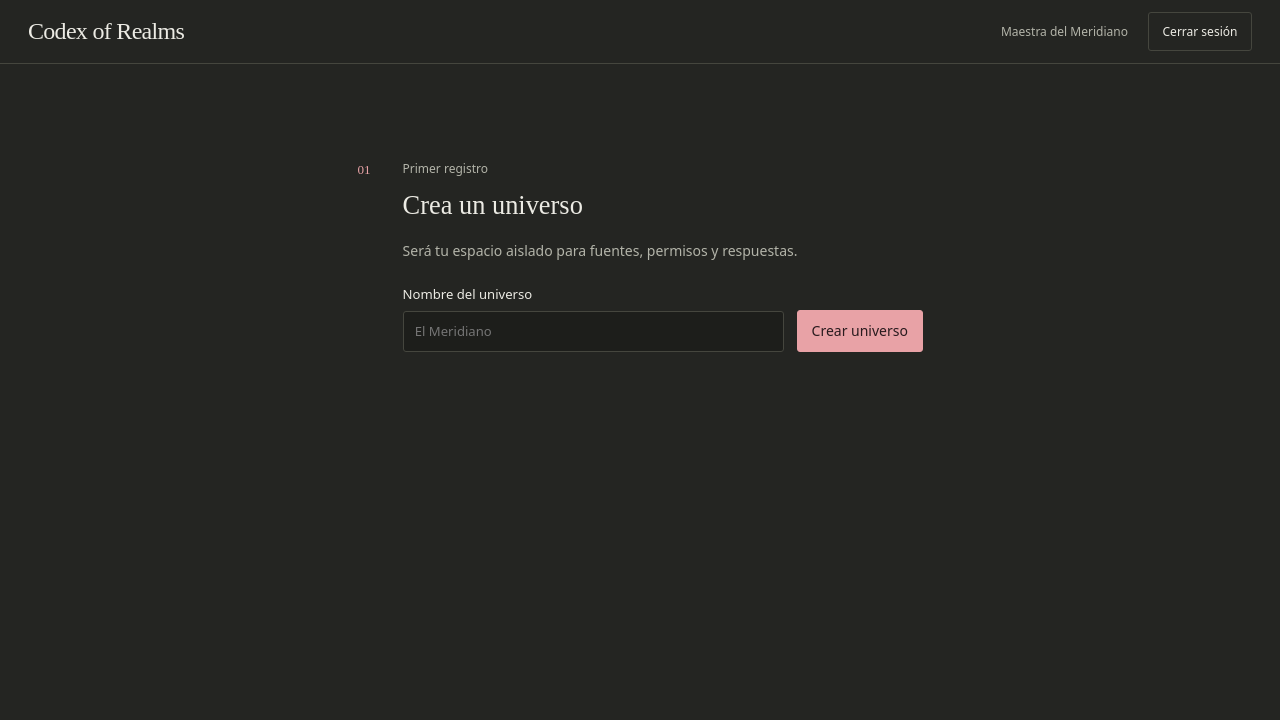
Scenario: App › crea el primer universo desde el estado vacío
In the field labelled "Nombre del universo": (593, 332) [402,311,784,352], type "Nueva Frontera"
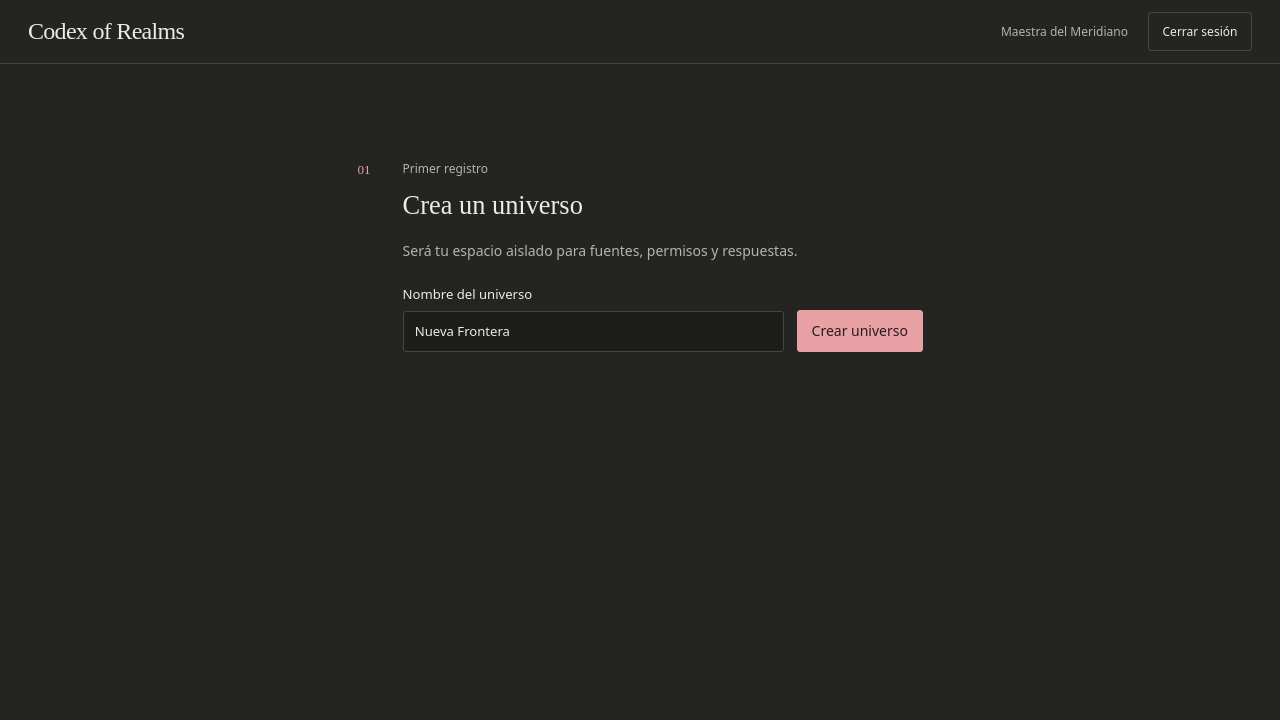
Click the button "Crear universo": (860, 331) [797,310,923,352]
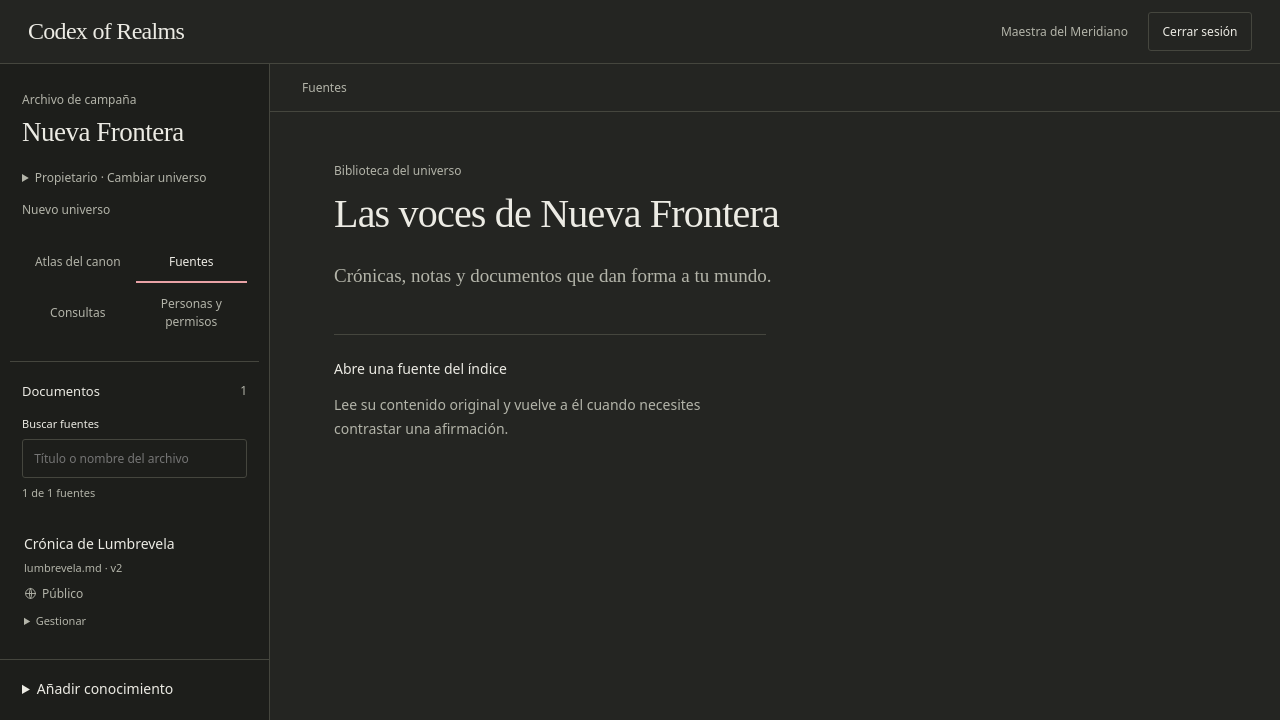
expect the heading "Nueva Frontera" is shown: met, box [22,117,184,147]
